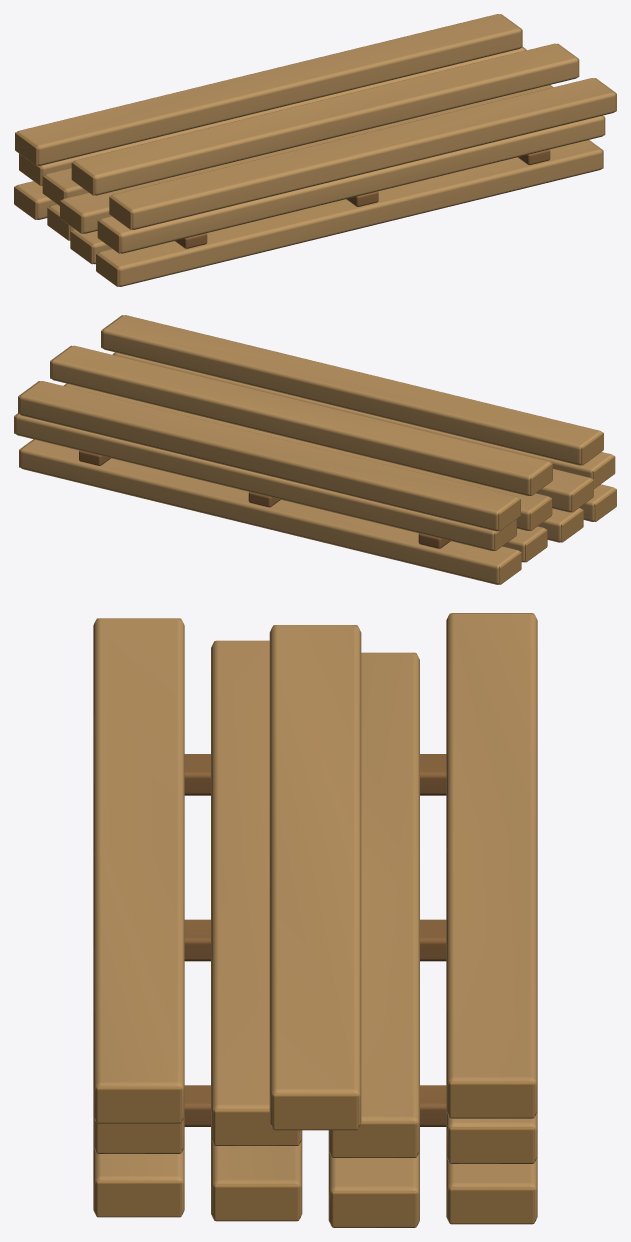
File: furn_lumber_stack.glb
3 renders of one model, top to bottom at view 1: azimuth 30°, elevation 25°; view 2: azimuth 150°, elevation 25°; view 3: azimuth 270°, elevation 25°, orthographic. The views are drawn at different scales.
Visible parts, largest first — view 1: furn_lumber_stack_main; view 2: furn_lumber_stack_main; view 3: furn_lumber_stack_main.
Boxes of the visible parts, x1,y1,x2,y2 form: furn_lumber_stack_main: [14, 14, 616, 286]; furn_lumber_stack_main: [14, 315, 616, 584]; furn_lumber_stack_main: [93, 613, 537, 1227].
Size of the model in its own units: 1.8 by 0.25 by 0.68.
